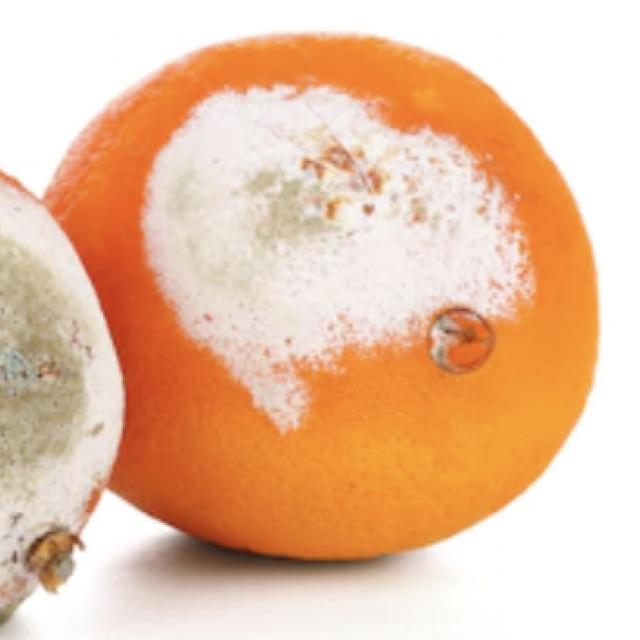rotten-orange: (39, 34, 598, 564)
